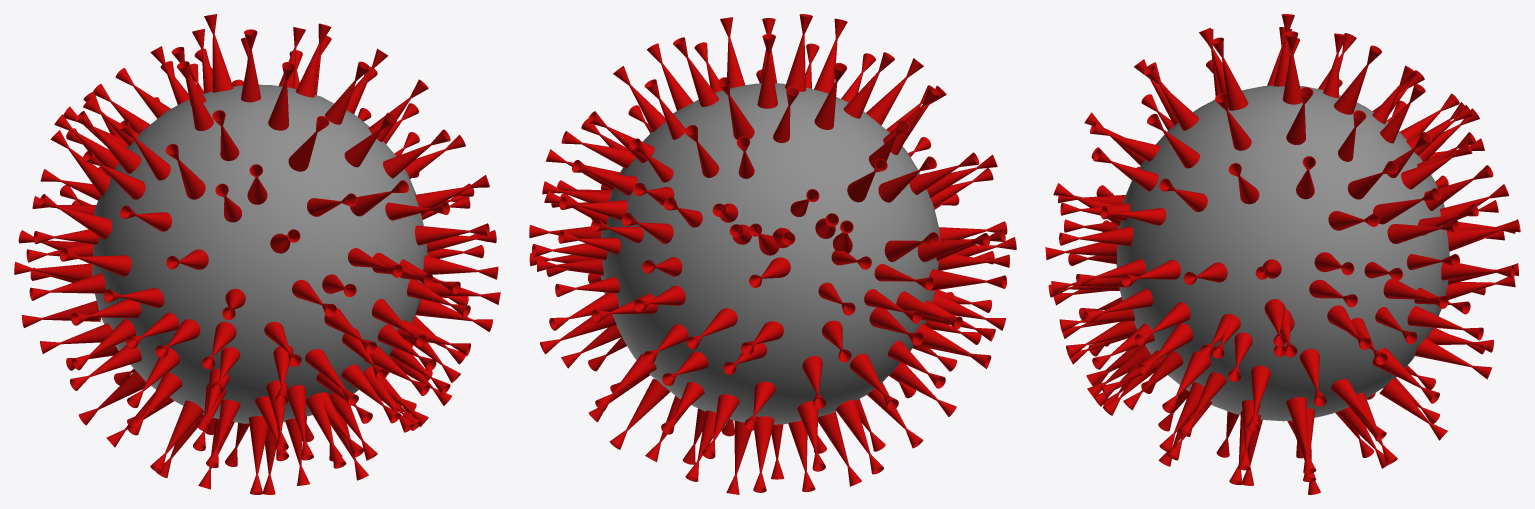
The model's file is Virus_1.fbx.
3 views of the same model, side by side, from view 1: azimuth 30°, elevation 25°; view 2: azimuth 150°, elevation 25°; view 3: azimuth 270°, elevation 25° (orthographic).
Parts seen in each view (by area): view 1: _polySurface210, _polySurface20; view 2: _polySurface210, _polySurface20; view 3: _polySurface20, _polySurface210.
Part boxes in pixels (left/top/right/bottom): _polySurface210: left=14, top=14, right=500, bottom=494; _polySurface20: left=89, top=84, right=427, bottom=423; _polySurface210: left=529, top=14, right=1016, bottom=494; _polySurface20: left=601, top=83, right=940, bottom=424; _polySurface20: left=1117, top=85, right=1449, bottom=421; _polySurface210: left=1045, top=14, right=1520, bottom=494.
Size of the model in its own units: 2.57 by 2.54 by 2.54.
